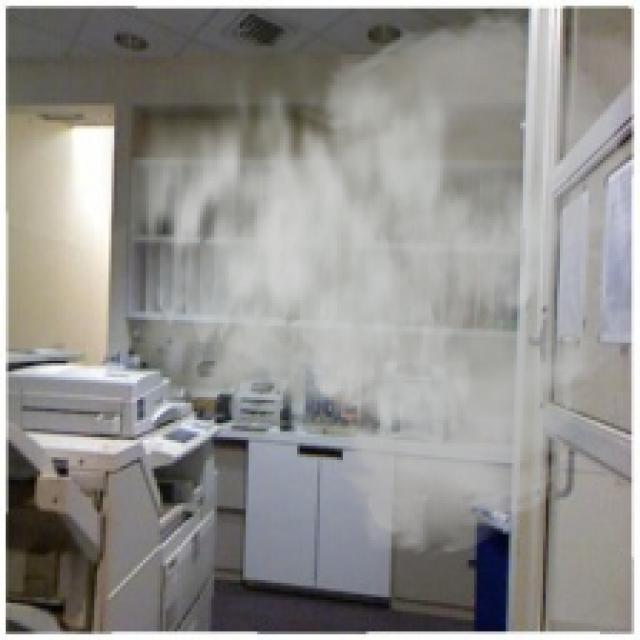Smoke: (99, 0, 632, 560)
